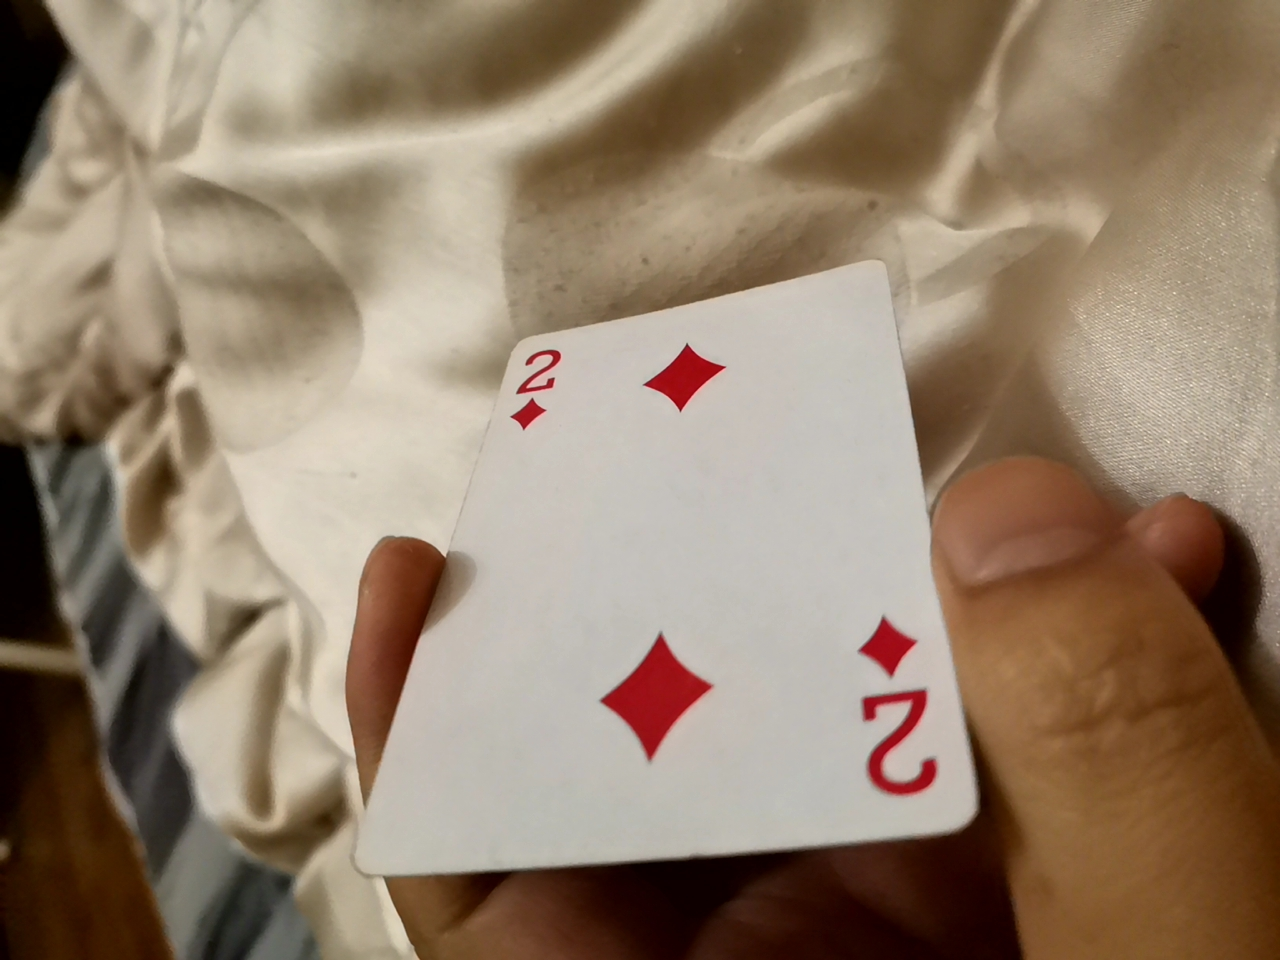fk 2: (306, 230, 939, 879)
